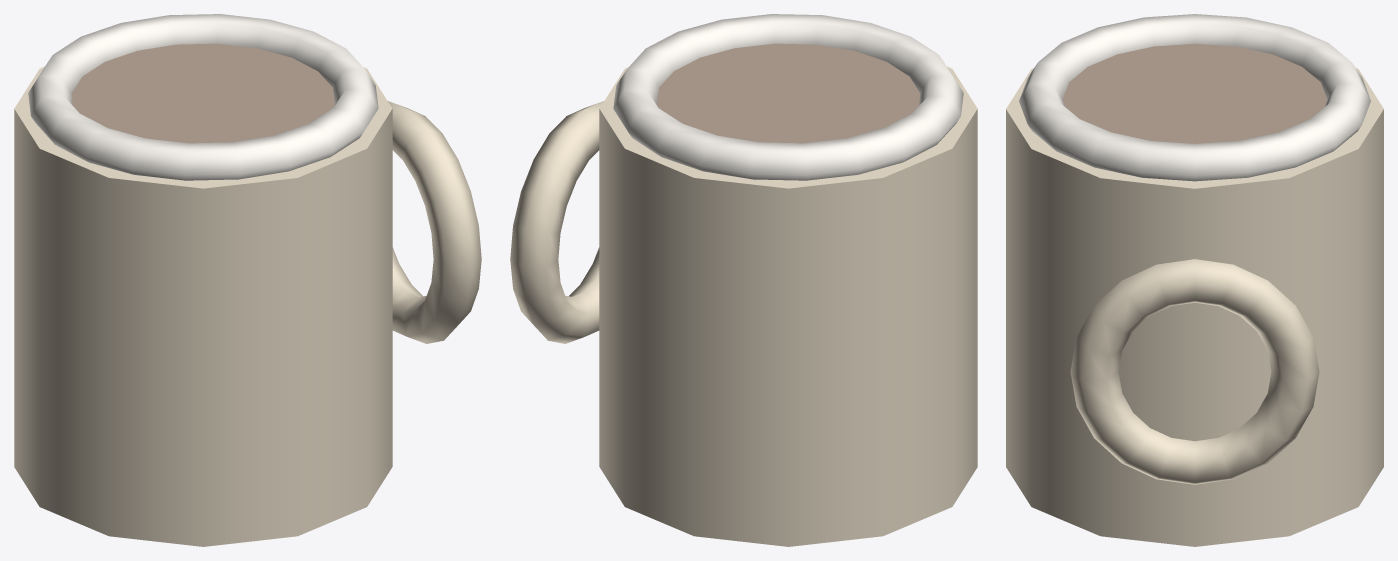
File: mug.glb
The picture shows the model from 3 angles, left to right: view 1: azimuth 30°, elevation 25°; view 2: azimuth 150°, elevation 25°; view 3: azimuth 270°, elevation 25°; orthographic projection.
Visible parts, largest first — view 1: mug.material0, mug.material2, mug.material1; view 2: mug.material0, mug.material2, mug.material1; view 3: mug.material0, mug.material2, mug.material1.
Boxes of the visible parts, x1,y1,x2,y2 form: mug.material0: (14, 66, 481, 546); mug.material2: (28, 14, 378, 180); mug.material1: (71, 43, 334, 143); mug.material0: (510, 66, 977, 546); mug.material2: (613, 14, 963, 180); mug.material1: (657, 43, 920, 143); mug.material0: (1006, 68, 1383, 546); mug.material2: (1019, 14, 1370, 181); mug.material1: (1062, 43, 1327, 143).
Bounding box in the file's own units: 0.2591 × 0.2463 × 0.22.
